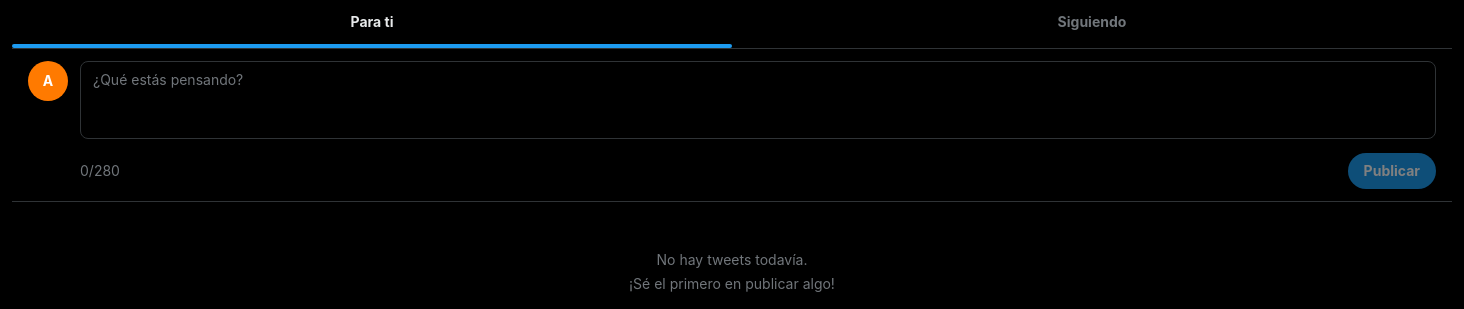
HomePage — crear tweet (integración) › muestra el contador de caracteres actualizado al escribir
Check: the text "0/280" is shown, box [80, 161, 120, 181]
Escribir 5 caracteres: "Hola!"
Type "Hola!" into the text box named "Contenido del tweet" at (758, 100), box [80, 61, 1436, 139]
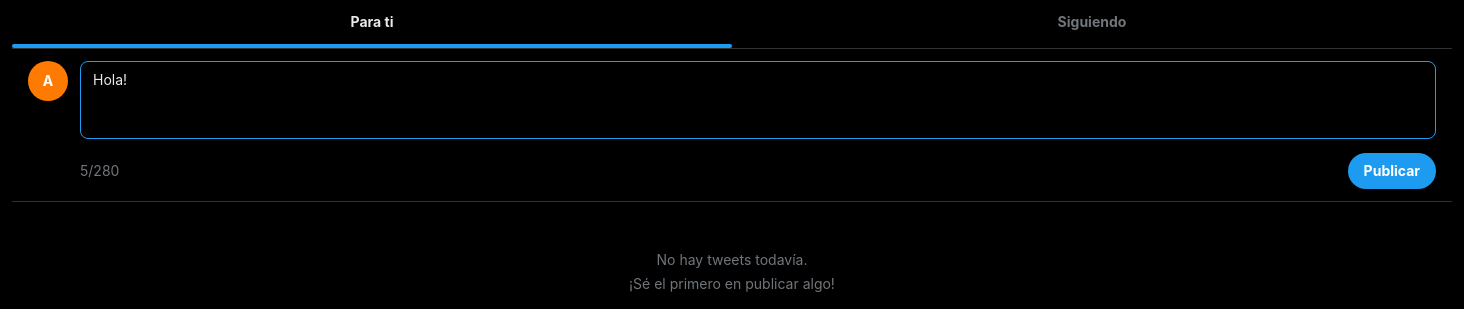
Check: the text "5/280" is shown, box [80, 161, 119, 181]
